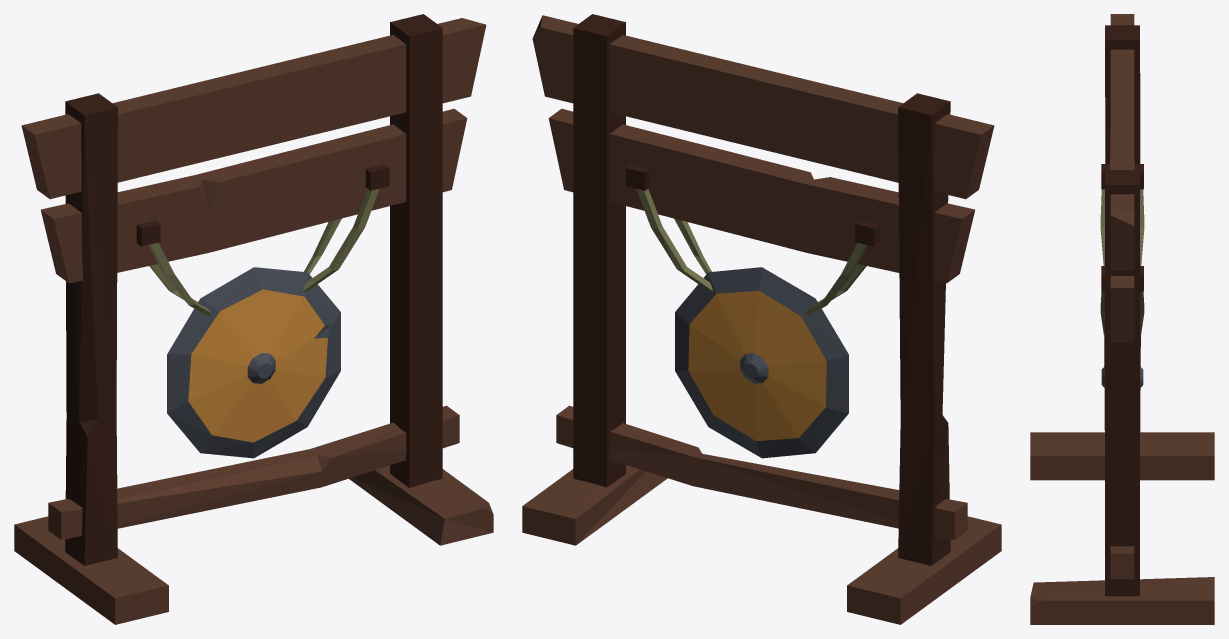
File: Gong Asia.fbx
The picture shows the model from 3 angles, left to right: view 1: azimuth 30°, elevation 25°; view 2: azimuth 150°, elevation 25°; view 3: azimuth 270°, elevation 25°; orthographic projection. The views are drawn at different scales.
Parts seen in each view (by area): view 1: Gong; view 2: Gong; view 3: Gong.
Part boxes in pixels (x1,y1,x2,y2): Gong: (14, 14, 493, 624); Gong: (522, 14, 1001, 624); Gong: (1030, 14, 1214, 624).
Bounding box in the file's own units: 1.76 × 1.78 × 0.6826.
